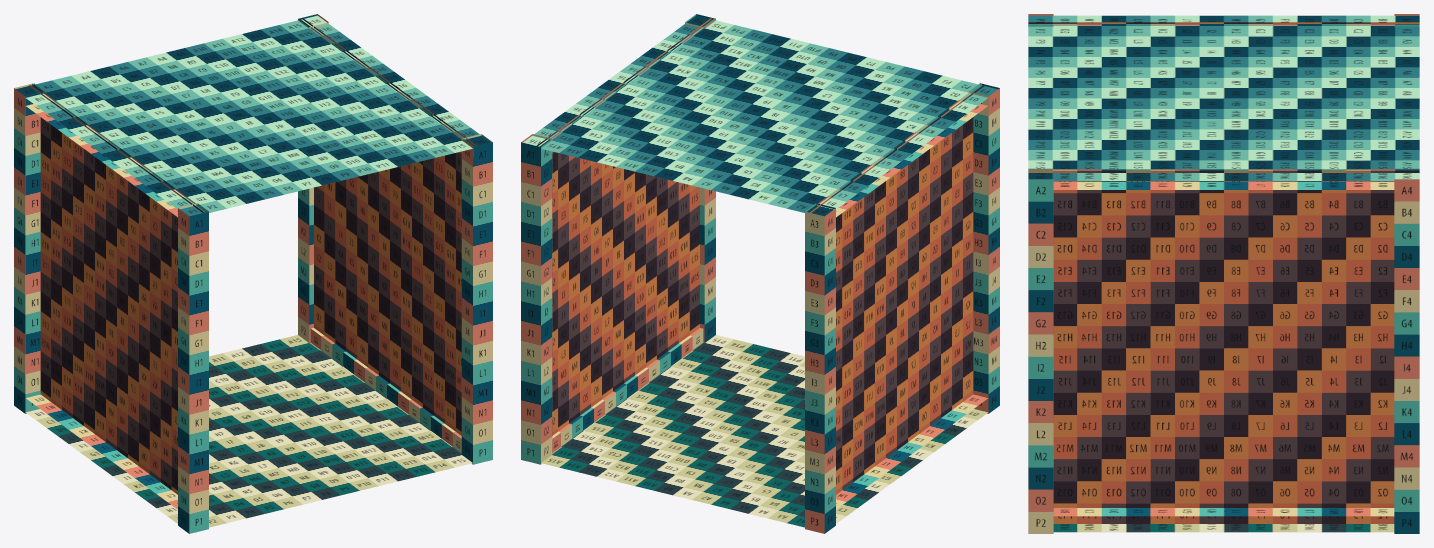
File: Cor_1.fbx
The picture shows the model from 3 angles, left to right: view 1: azimuth 30°, elevation 25°; view 2: azimuth 150°, elevation 25°; view 3: azimuth 270°, elevation 25°; orthographic projection. The views are drawn at different scales.
Visible parts, largest first — view 1: Cor_1_Walls, Cor_1_Ceiling, Cor_1_Floor, Cor_1_PL_Wall, Cor_1_PL_FL, Cor_1_PL_CL; view 2: Cor_1_Walls, Cor_1_Ceiling, Cor_1_Floor, Cor_1_PL_Wall, Cor_1_PL_FL, Cor_1_PL_CL; view 3: Cor_1_Walls, Cor_1_Ceiling, Cor_1_PL_Wall, Cor_1_PL_CL, Cor_1_Floor, Cor_1_PL_FL.
Part boxes in pixels (x1,y1,x2,y2): Cor_1_Walls: [29, 18, 477, 494]; Cor_1_Ceiling: [16, 15, 490, 216]; Cor_1_Floor: [26, 335, 472, 527]; Cor_1_PL_Wall: [14, 14, 492, 533]; Cor_1_PL_FL: [26, 328, 461, 509]; Cor_1_PL_CL: [26, 18, 474, 217]; Cor_1_Walls: [536, 18, 984, 494]; Cor_1_Ceiling: [523, 15, 997, 216]; Cor_1_Floor: [541, 335, 987, 527]; Cor_1_PL_Wall: [521, 14, 999, 533]; Cor_1_PL_FL: [552, 328, 987, 509]; Cor_1_PL_CL: [539, 18, 987, 217]; Cor_1_Walls: [1028, 22, 1419, 523]; Cor_1_Ceiling: [1028, 15, 1419, 180]; Cor_1_PL_Wall: [1028, 14, 1419, 533]; Cor_1_PL_CL: [1028, 24, 1419, 189]; Cor_1_Floor: [1053, 524, 1394, 532]; Cor_1_PL_FL: [1053, 508, 1394, 516].
Size of the model in its own units: 200 by 200 by 200.
